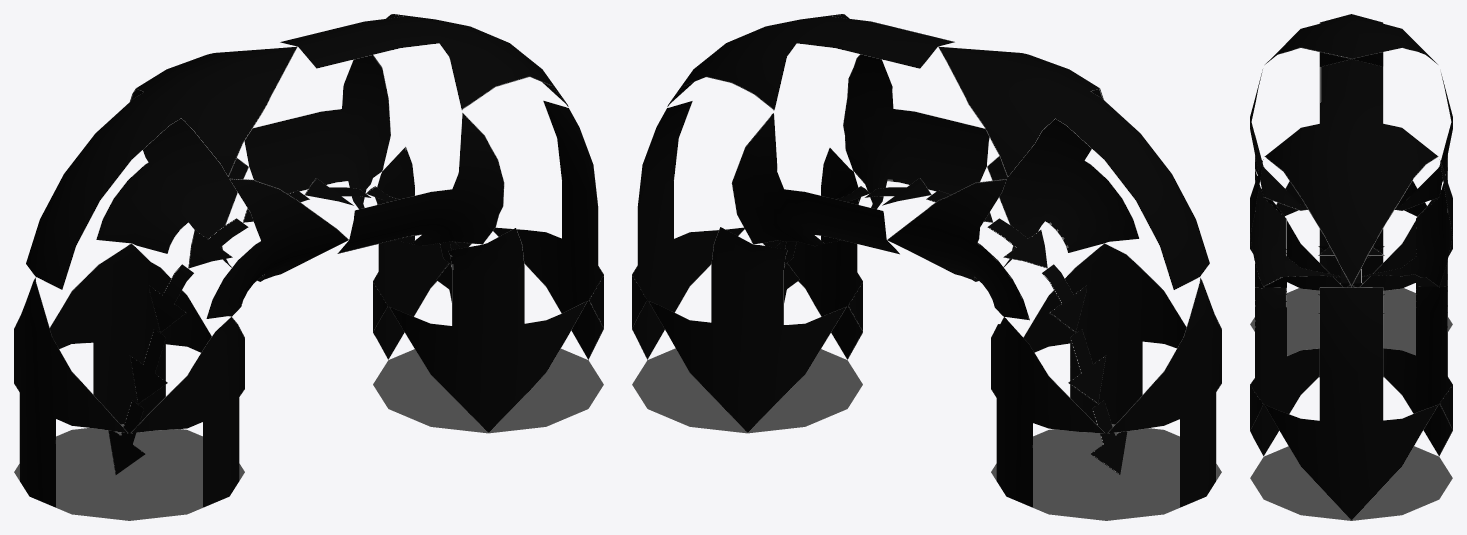
Rendered from bridge.fbx.
3 renders of one model, left to right at view 1: azimuth 30°, elevation 25°; view 2: azimuth 150°, elevation 25°; view 3: azimuth 270°, elevation 25°, orthographic. The views are drawn at different scales.
Visible parts, largest first — view 1: bridge, bridge Arrow; view 2: bridge, bridge Arrow; view 3: bridge, bridge Arrow.
Boxes of the visible parts, box(x1,y1,x2,y2) form: bridge: box(14, 14, 603, 520); bridge Arrow: box(108, 178, 458, 474); bridge: box(632, 14, 1221, 520); bridge Arrow: box(777, 178, 1127, 474); bridge: box(1250, 14, 1452, 520); bridge Arrow: box(1318, 246, 1384, 377).
Size of the model in its own units: 0.0251 by 0.0165 by 0.009.
